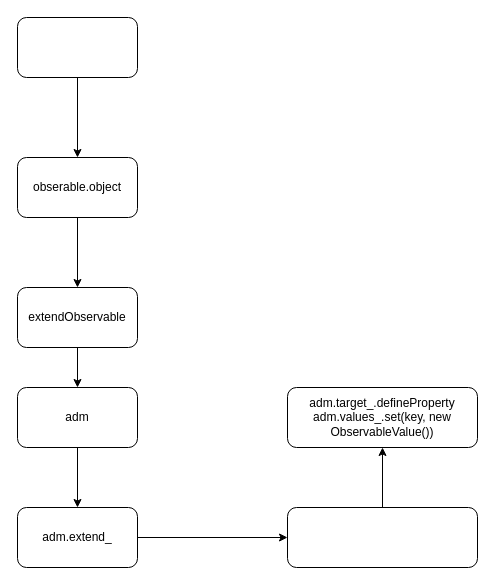
Image size: 495x585. Some labels were removed from this diagram. Here are the shapes that lost their labels. From the top down, the centre of each, then its label:
At point (77, 47): "api/observable".
At point (382, 537): "observableanotation.extend_".
